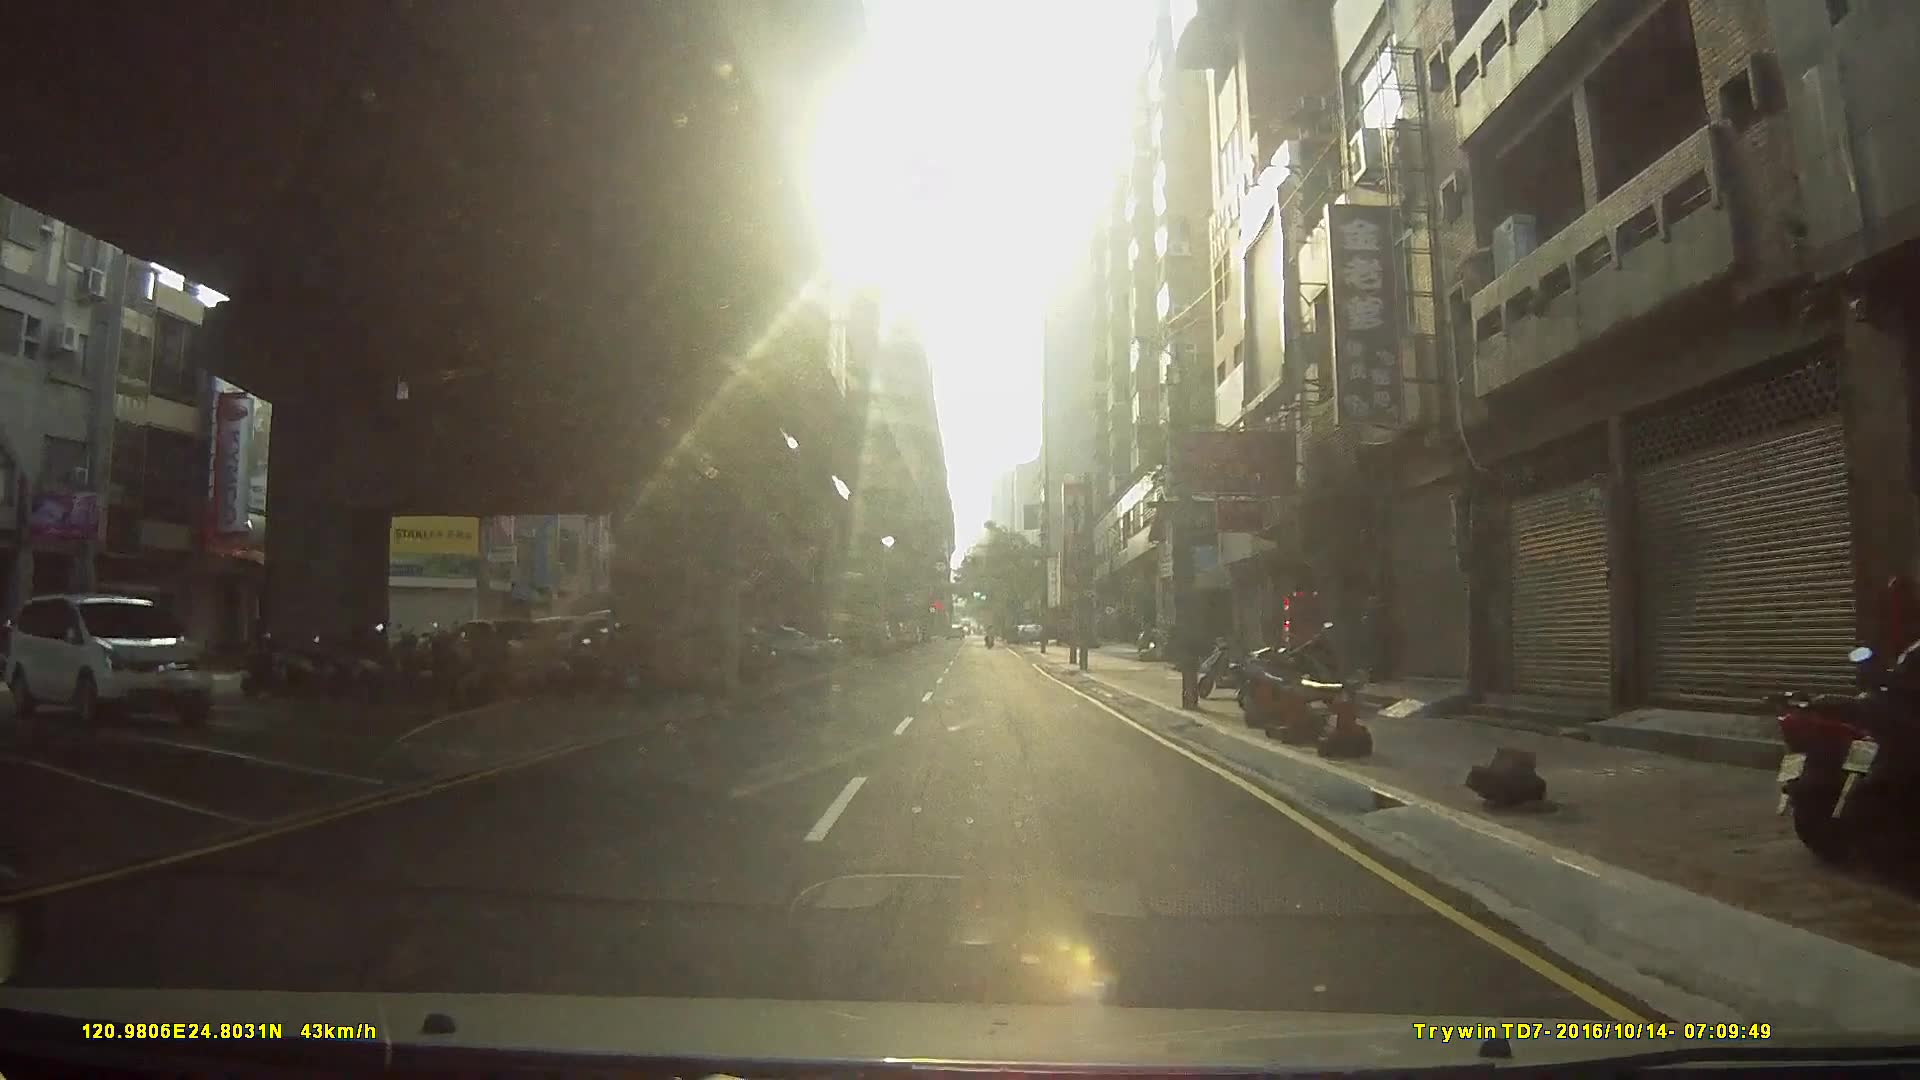vehicle: (3, 592, 214, 727)
